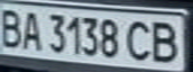1: (63, 12, 81, 55)
3: (78, 14, 103, 57), (42, 11, 66, 54)
8: (96, 15, 124, 60)
A: (18, 8, 45, 52)
B: (145, 18, 187, 64), (0, 4, 24, 50)
C: (124, 17, 157, 63)
